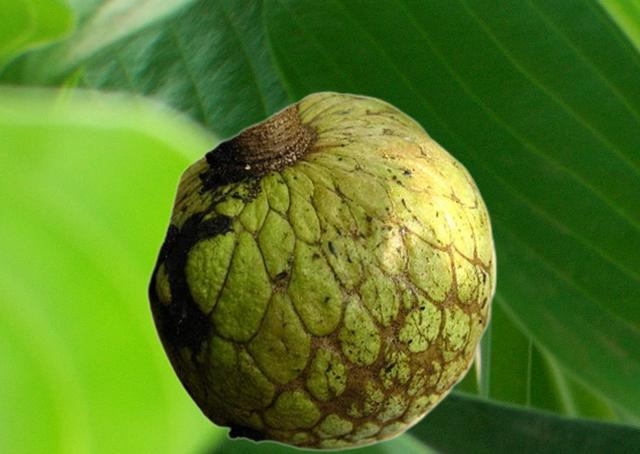atis: (145, 90, 496, 451)
